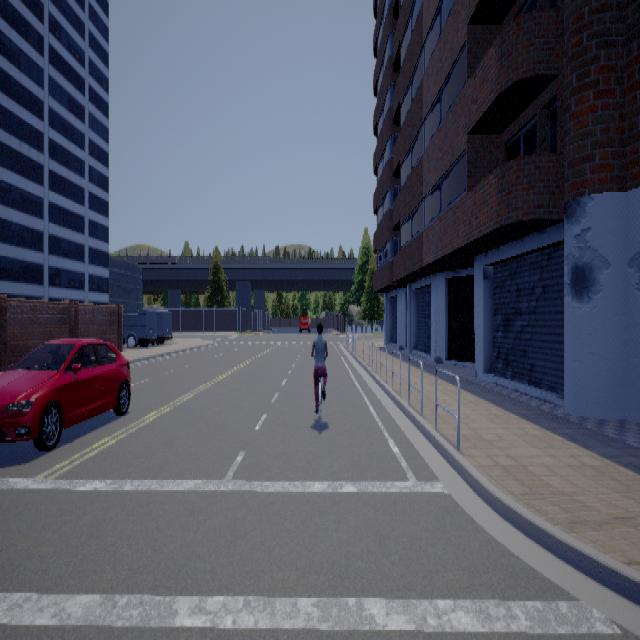bike: (308, 320, 331, 419)
vehicle: (0, 337, 130, 450), (122, 306, 172, 347)
